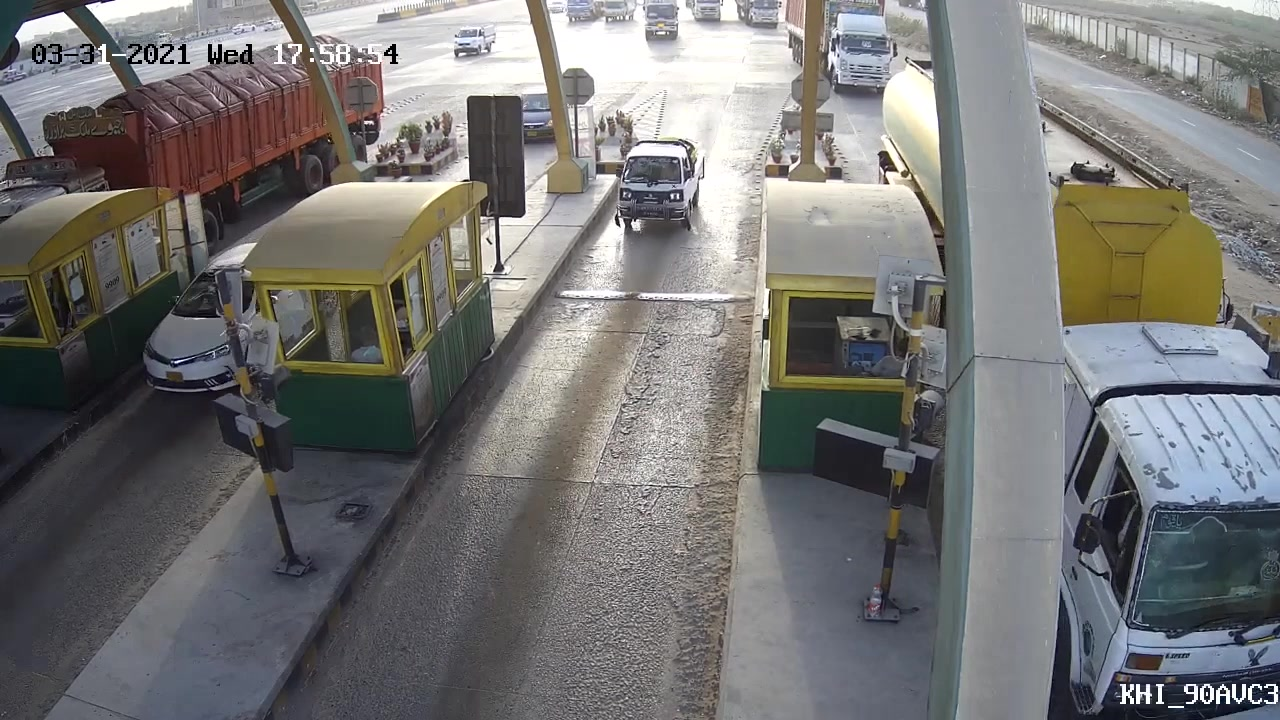F1: (595, 127, 717, 244)
